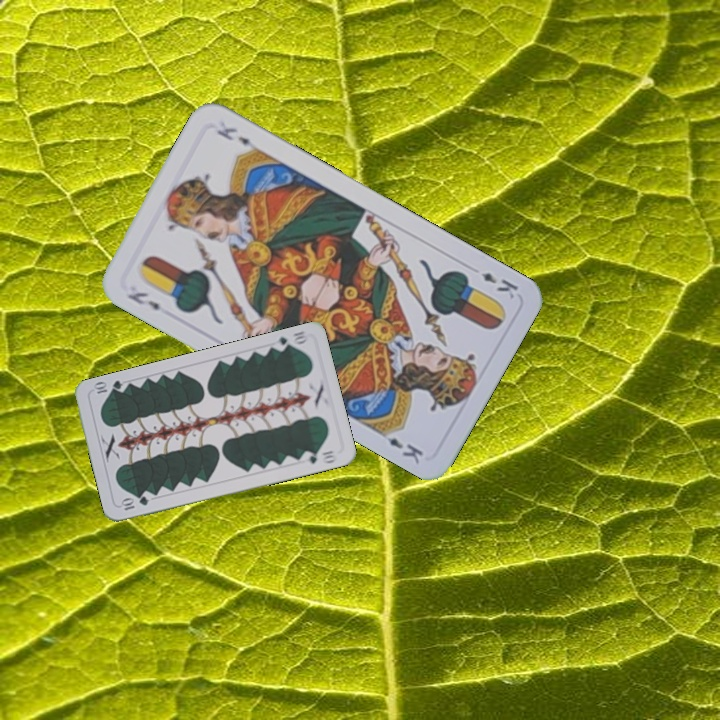EK: (477, 268, 521, 302), (123, 287, 163, 313)
G10: (270, 327, 310, 354), (117, 492, 151, 513)
